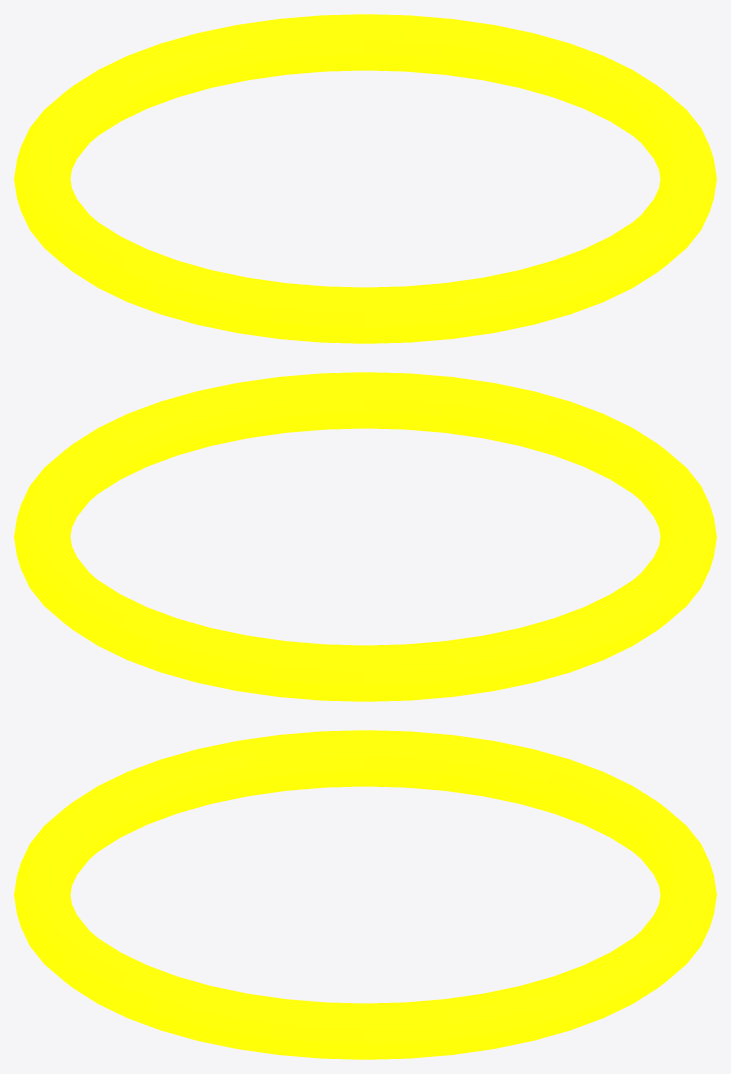
The model's file is Halo.glb.
3 renders of one model, top to bottom at view 1: azimuth 30°, elevation 25°; view 2: azimuth 150°, elevation 25°; view 3: azimuth 270°, elevation 25°, orthographic.
Parts seen in each view (by area): view 1: Torus; view 2: Torus; view 3: Torus.
Boxes of the visible parts, x1=… form: Torus: x1=14, y1=14, x2=716, y2=343; Torus: x1=14, y1=372, x2=716, y2=701; Torus: x1=14, y1=730, x2=716, y2=1059.
Size of the model in its own units: 2.17 by 0.175 by 2.17.
